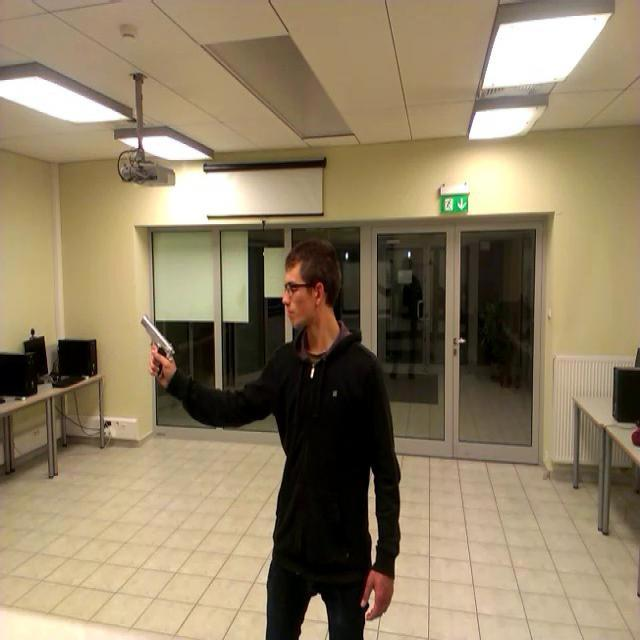weapon: (140, 314, 174, 378)
